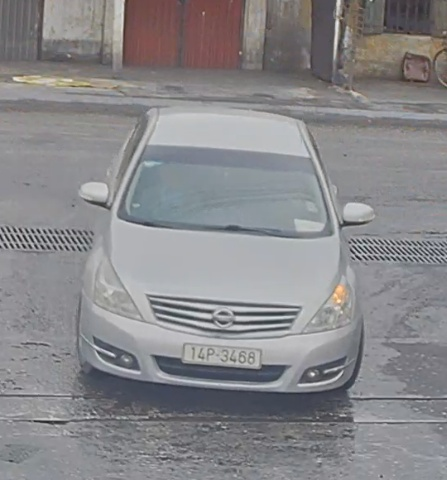vehicle plate: (180, 343, 266, 367)
